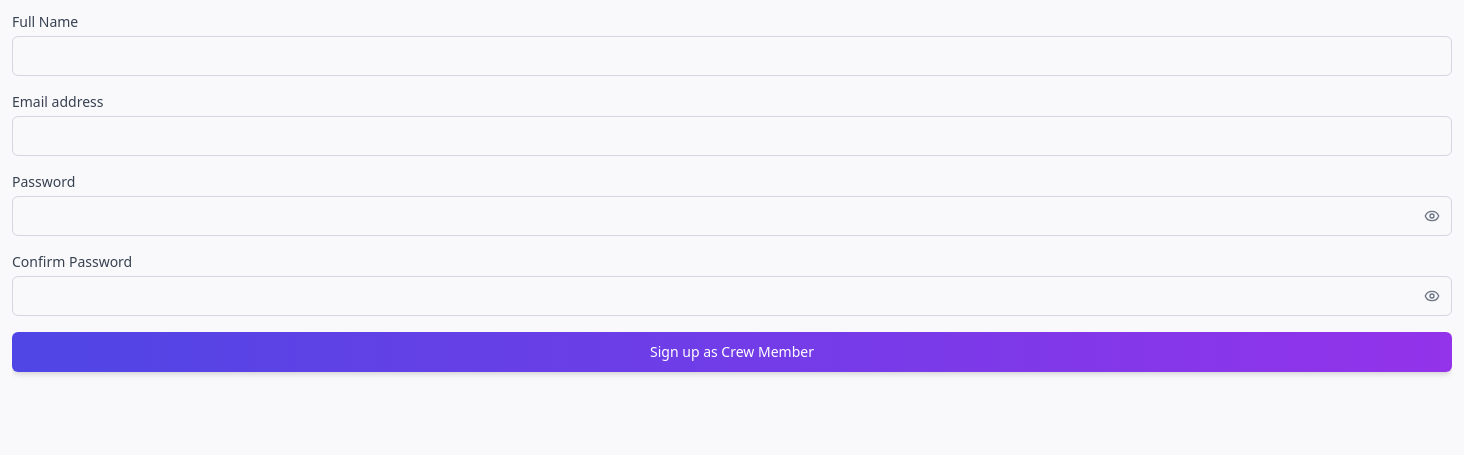
Scenario: CrewSignupForm › refuses submission when passwords do not match
Type "Ada Lovelace" into the field labelled "Full Name". click: [732, 56]
box: [12, 36, 1452, 76]
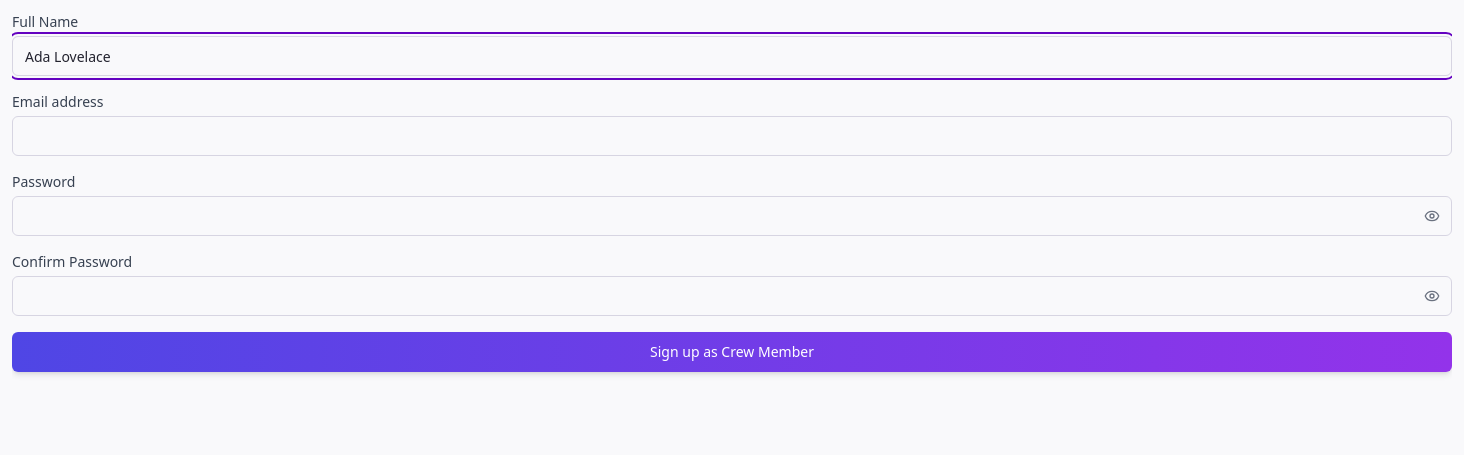
Type "ada@example.com" into the field labelled "Email address". click: [732, 136]
box: [12, 116, 1452, 156]
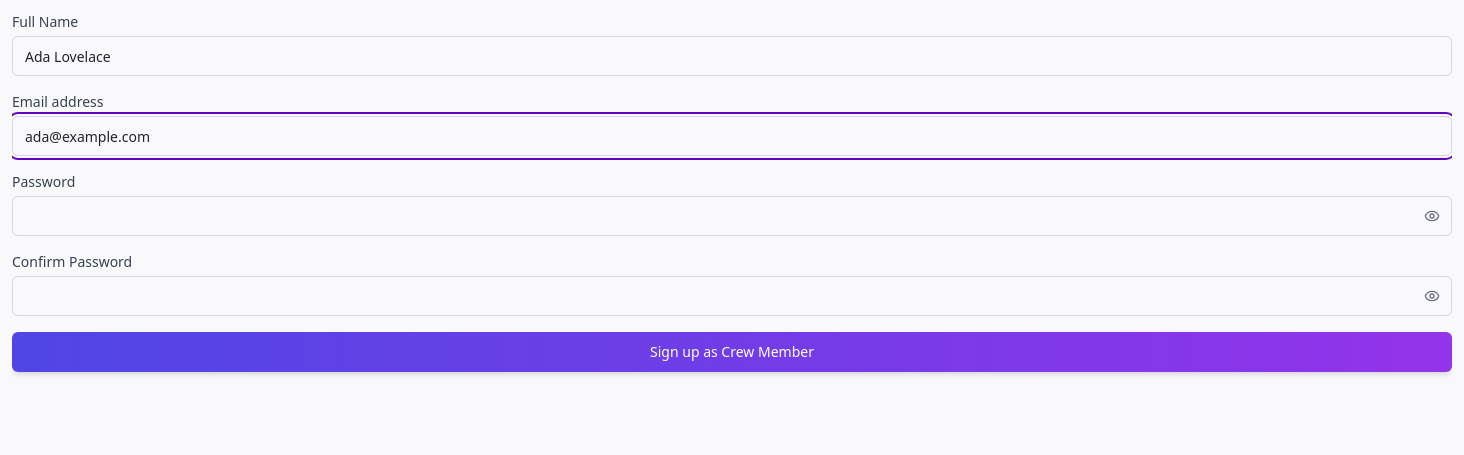
Type "Sup3r$ecret" into the password field labelled "Password". click: [732, 216]
box: [12, 196, 1452, 236]
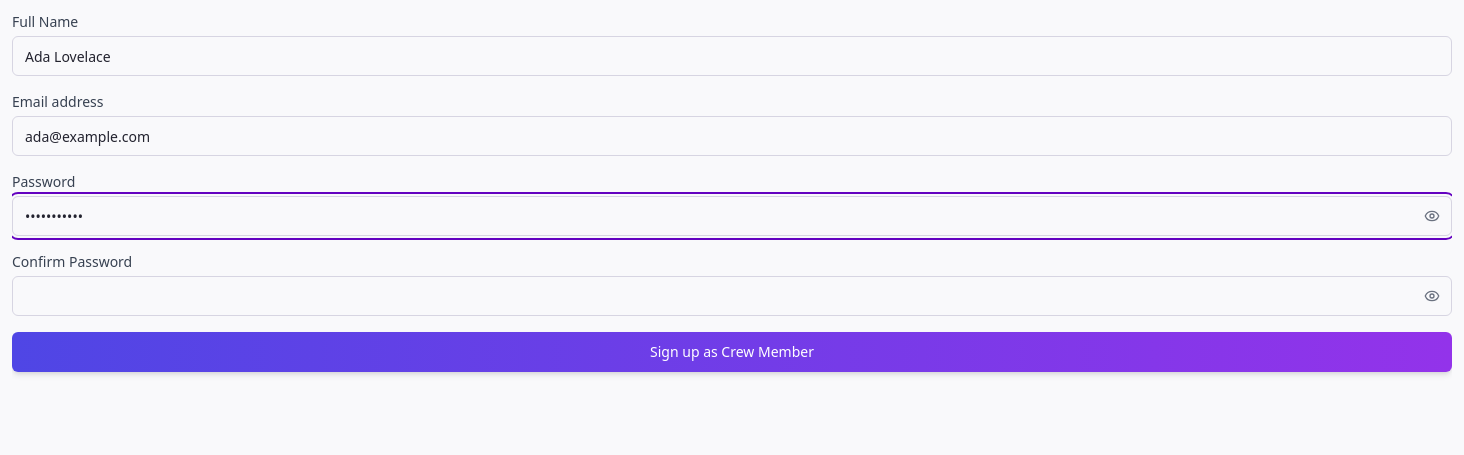
Type "Different123!" into the password field labelled "Confirm Password". click: [732, 296]
box: [12, 276, 1452, 316]
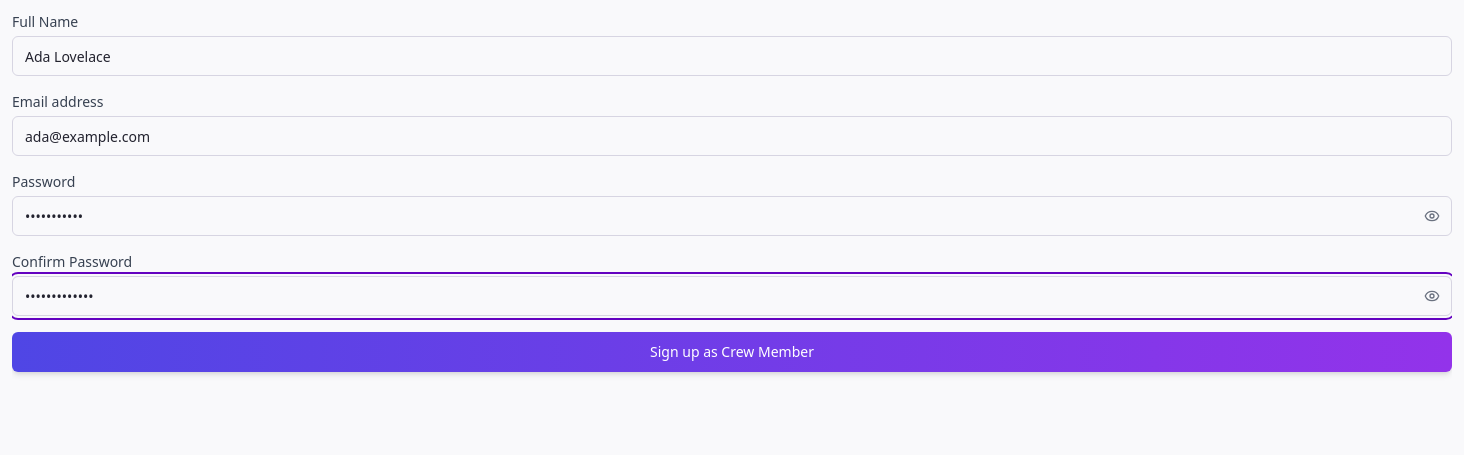
Click the button "Sign up as Crew Member". click: [732, 352]
box: [12, 332, 1452, 372]
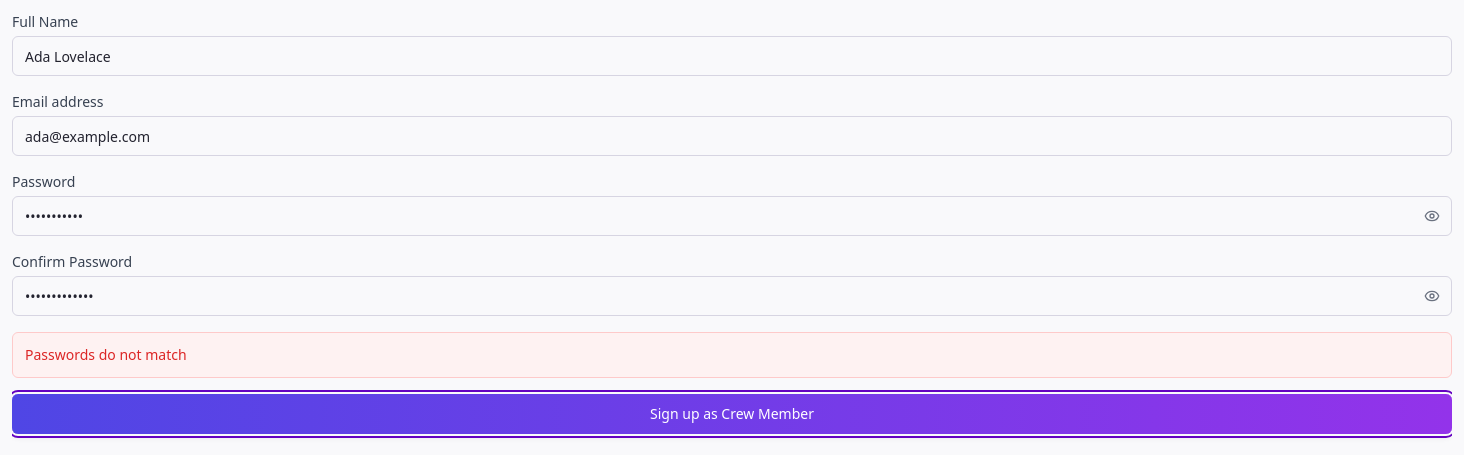
Check: the text "Passwords do not match" is shown, box [25, 345, 187, 364]
